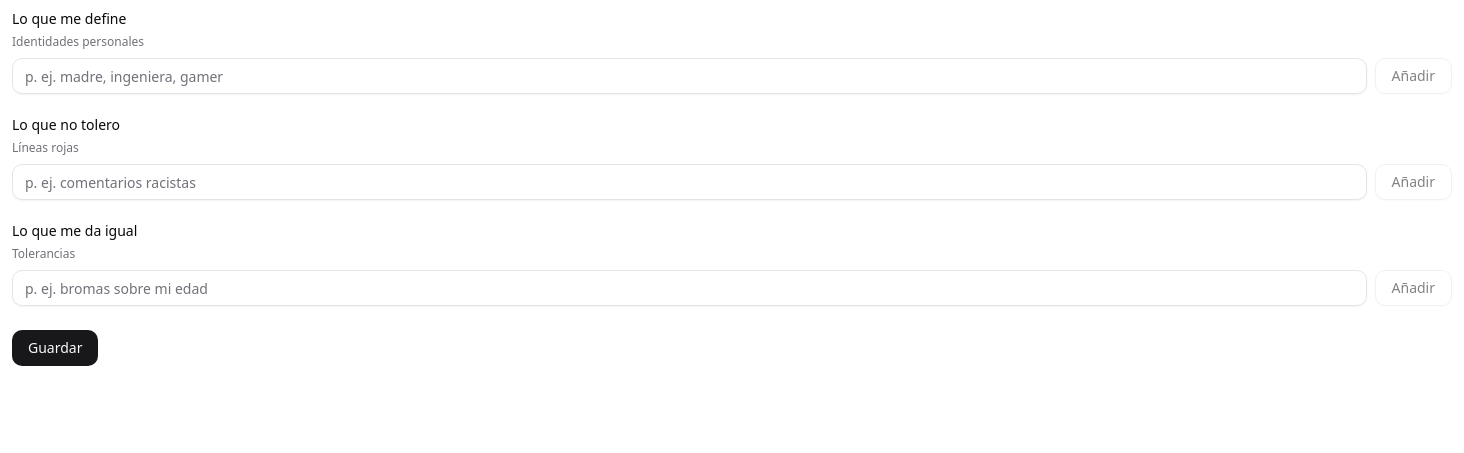
Test case: PersonaForm › shows an error message when saving fails
This screenshot has width=1464, height=453.
Expected: the field labelled "Lo que me define" is shown, x1=12 y1=58 x2=1366 y2=94
Click the button "Guardar" at {"x": 55, "y": 348}, box x1=12 y1=330 x2=98 y2=366
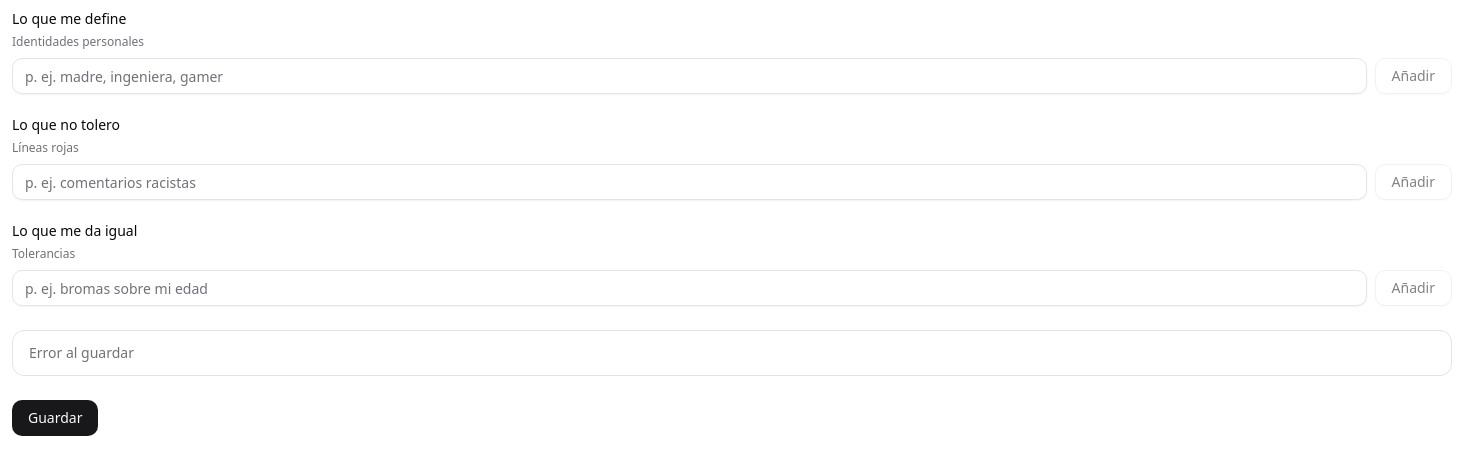
Now the text "Error al guardar" is shown, box x1=29 y1=343 x2=134 y2=362
